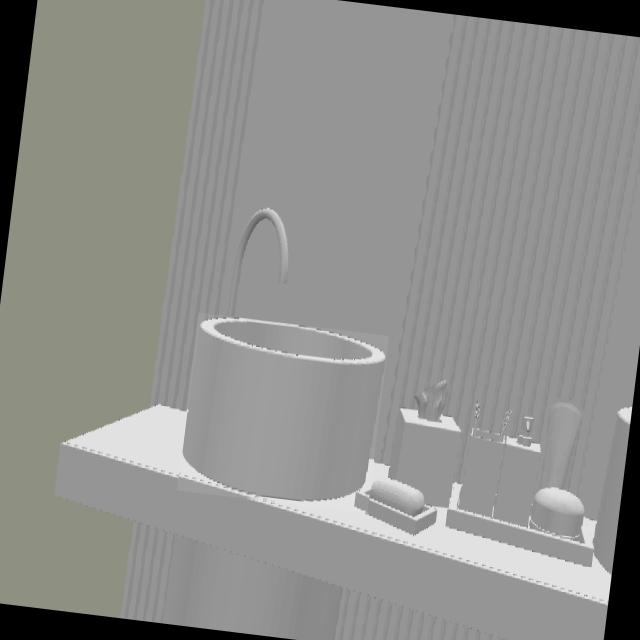washbasin: (180, 318, 385, 505)
